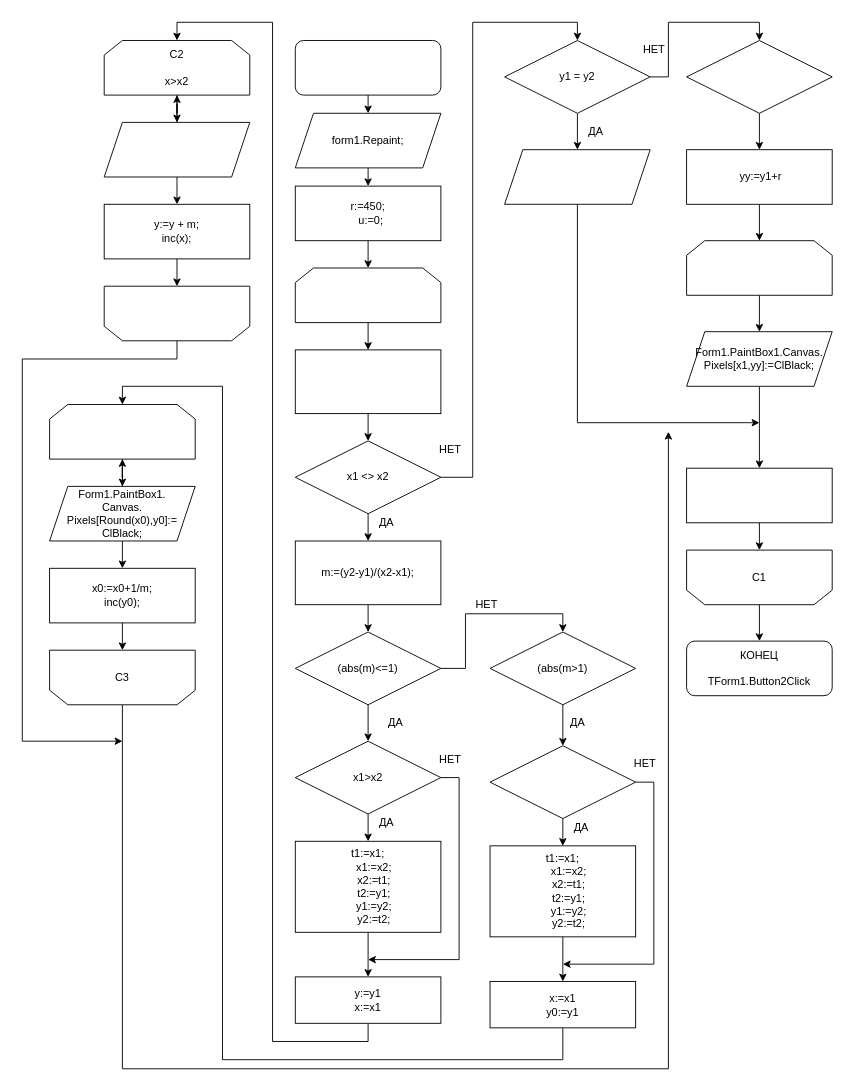
The diagram is 848 pixels wide and 1092 high, and some of its shapes have lost their labels. The shapes that lost their labels are listed below. From the top down, each one's centre as x and y in pixels, then its label:
At [367,67]: "TForm1.Button2Click НАЧАЛО".
At [759,76]: "x1 = x2".
At [176,149]: "Form1.PaintBox1. Canvas.Pixels [x,Round(y)]:= ClBlack;".
At [577,176]: "Form1.PaintBox1. Canvas. Pixels[x1,y1]:=ClBlack;".
At [759,267]: "С4 yy>y1-r".
At [176,313]: "С2".
At [367,295]: "С1 u=2*pi".
At [367,381]: "x1:= 900; y1:= 500; x2:=x1+round(r*cos(u)); y2:=y1-round(r*sin(u));".
At [122,431]: "С3 y0>y2".
At [759,495]: "u:=u+pi/12;".
At [562,782]: "y1>y2".
